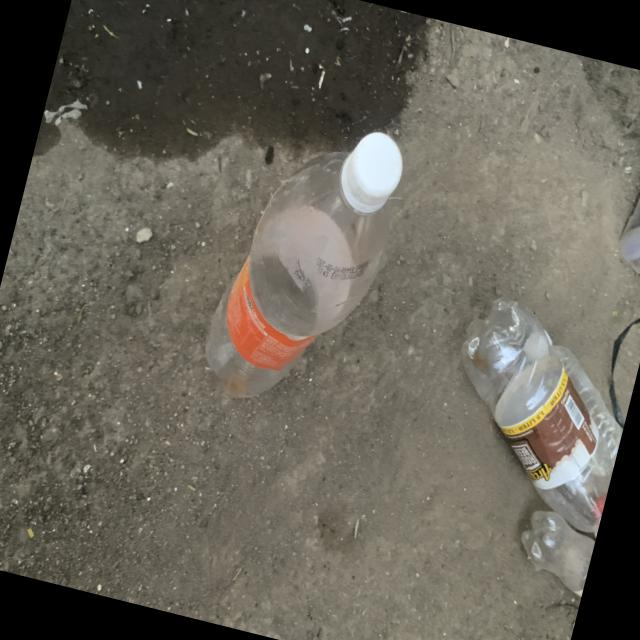Bottle: (204, 132, 401, 396)
